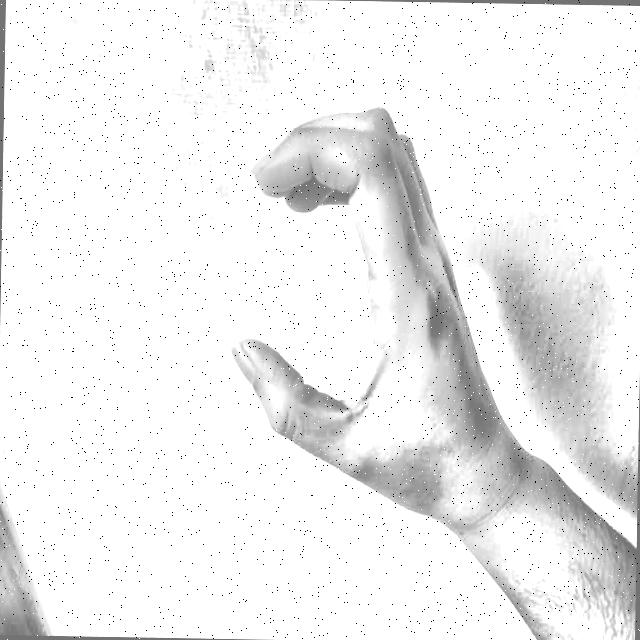A: (195, 87, 475, 570)
